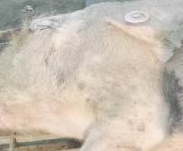text: (115, 1, 155, 34)
